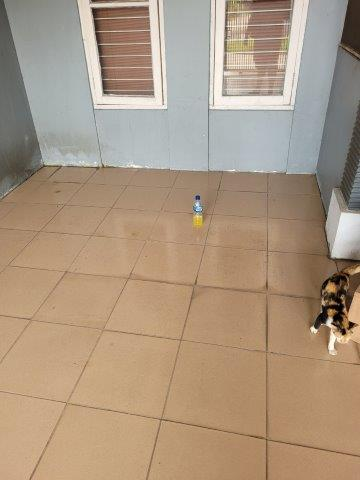botolplastik: (193, 195, 204, 227)
